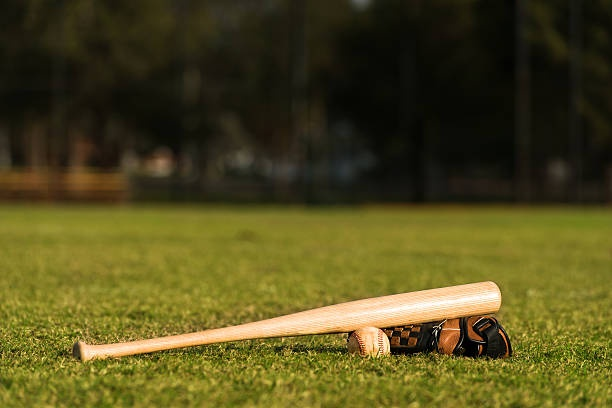bita: (75, 280, 499, 361)
